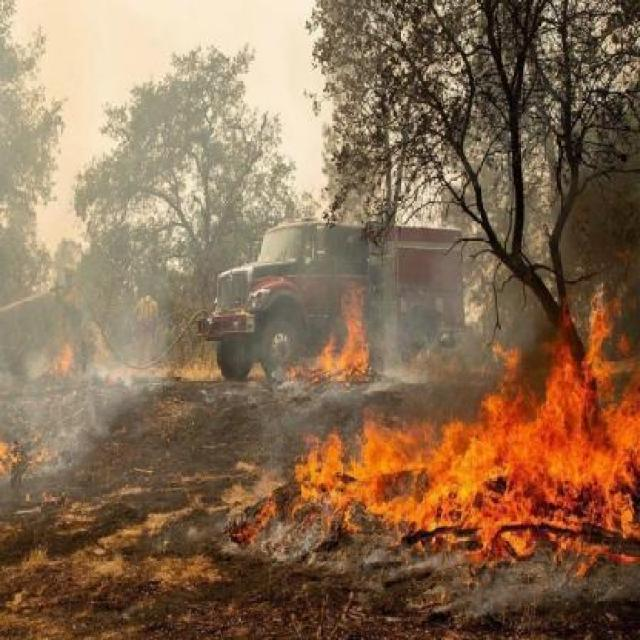Fire: (272, 348, 640, 564)
Smoke: (9, 170, 478, 460)
